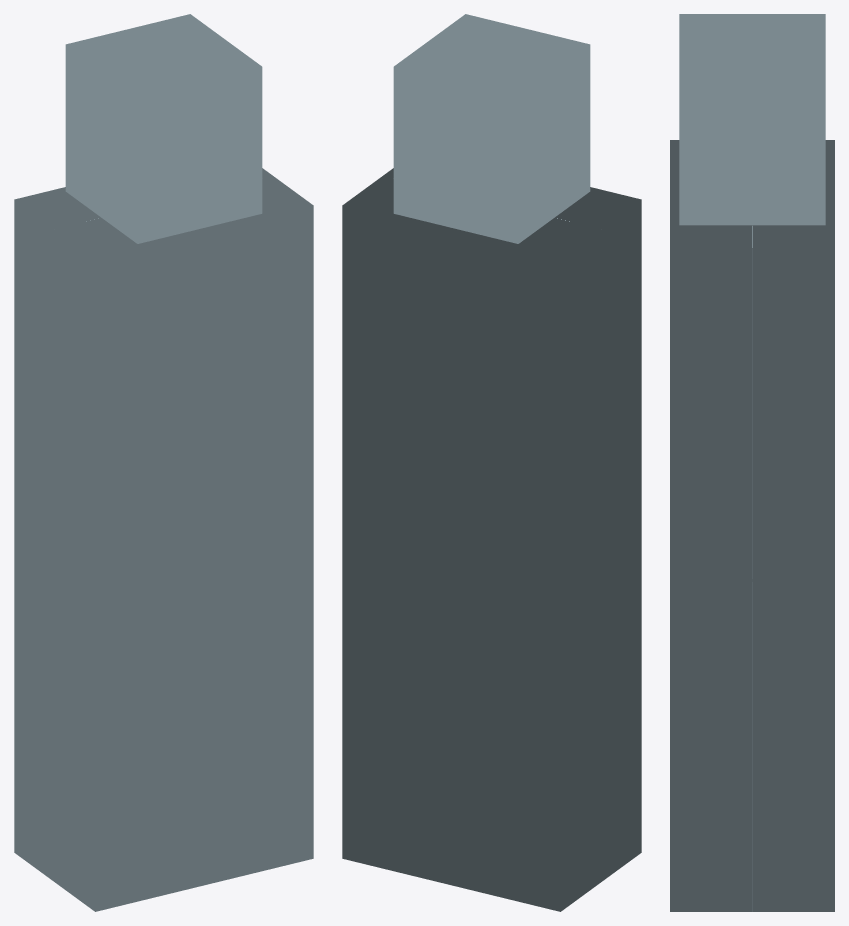
The picture shows the model from 3 angles, left to right: view 1: azimuth 30°, elevation 25°; view 2: azimuth 150°, elevation 25°; view 3: azimuth 270°, elevation 25°; orthographic projection.
Parts seen in each view (by area): view 1: Root; view 2: Root; view 3: Root.
Boxes of the visible parts, left/top/right/bottom form: Root: left=14, top=14, right=313, bottom=911; Root: left=342, top=14, right=641, bottom=911; Root: left=670, top=14, right=834, bottom=911.
Bounding box in the file's own units: 0.56 × 1.96 × 0.36.
